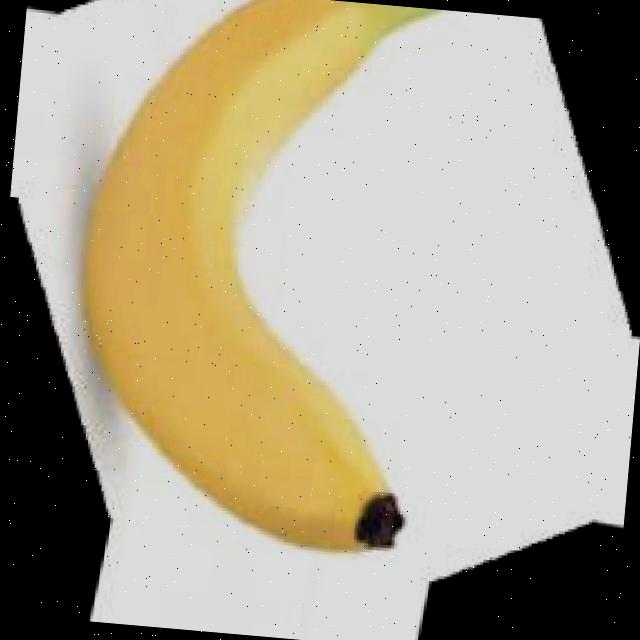banana: (20, 0, 475, 571)
